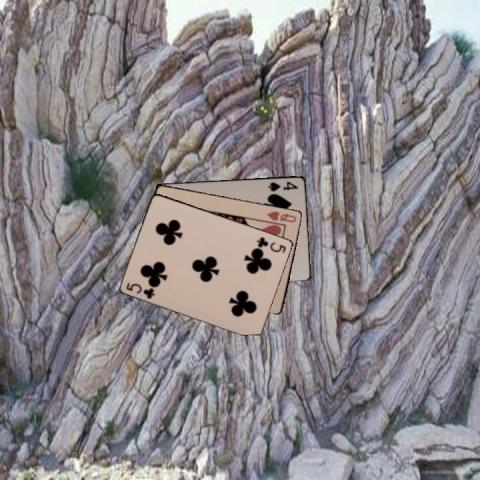4s: (265, 178, 300, 193)
5c: (123, 279, 157, 300), (254, 234, 287, 255)
Qh: (264, 208, 298, 223)
